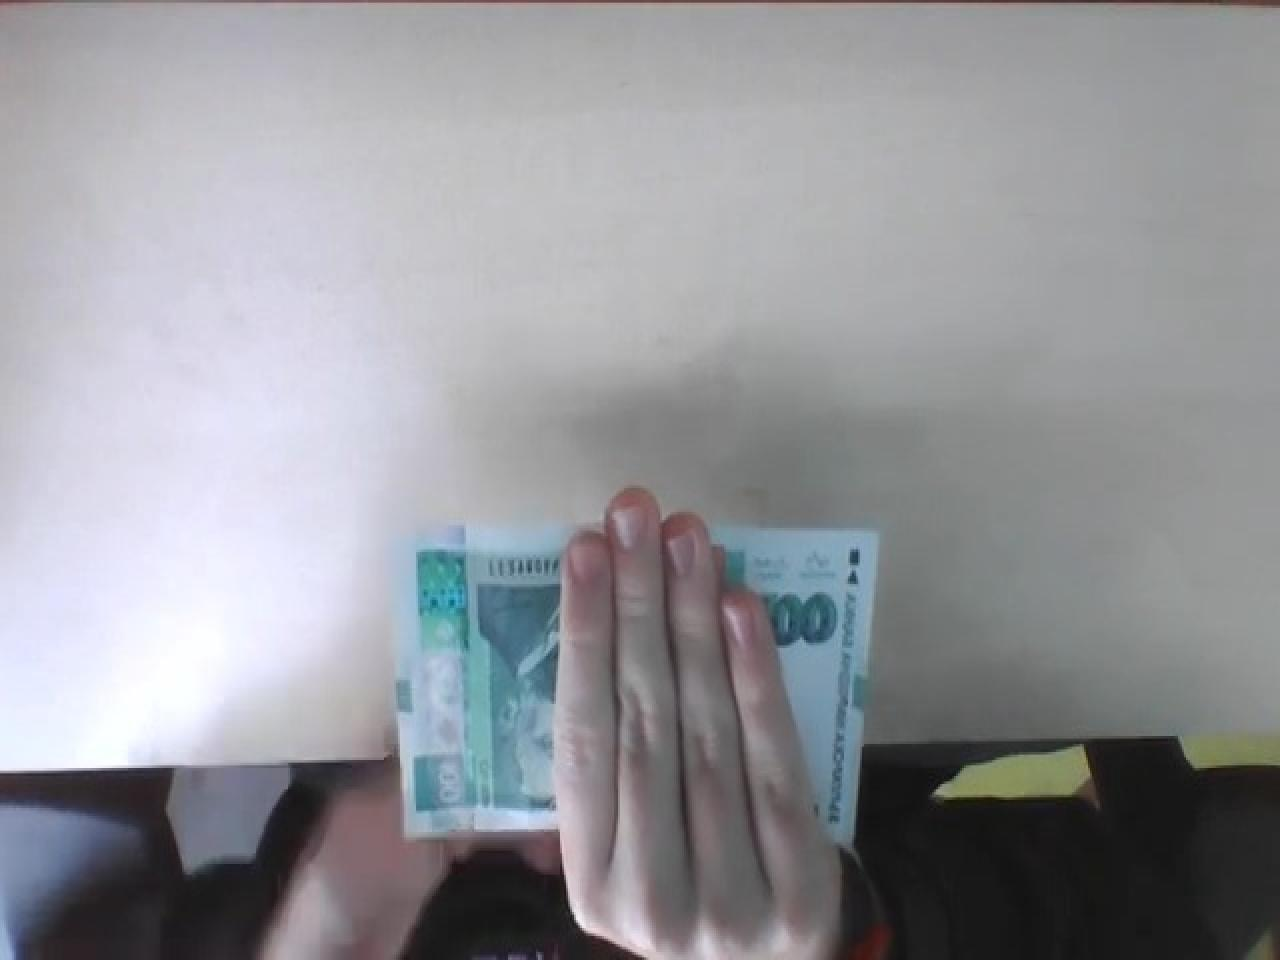100leva: (392, 520, 878, 848)
